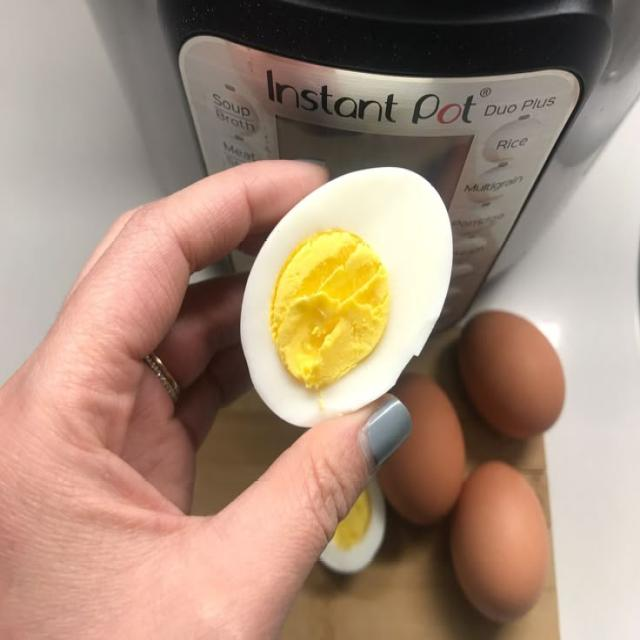eggs: (223, 174, 469, 413)
